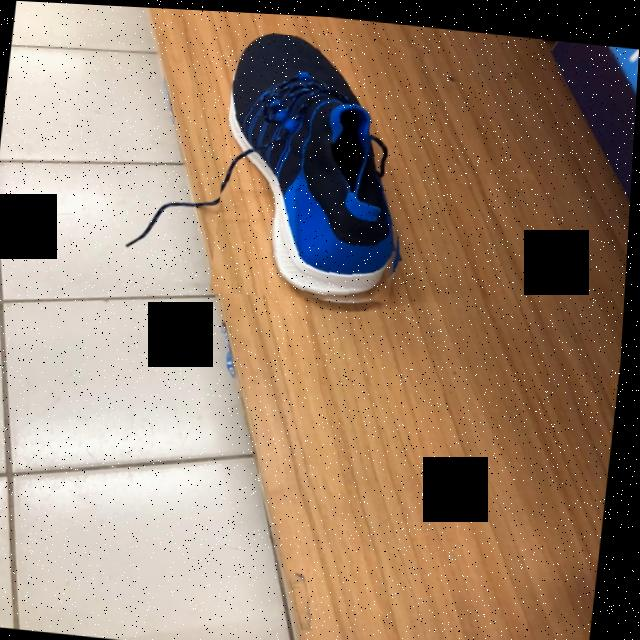shoe: (232, 31, 400, 298)
